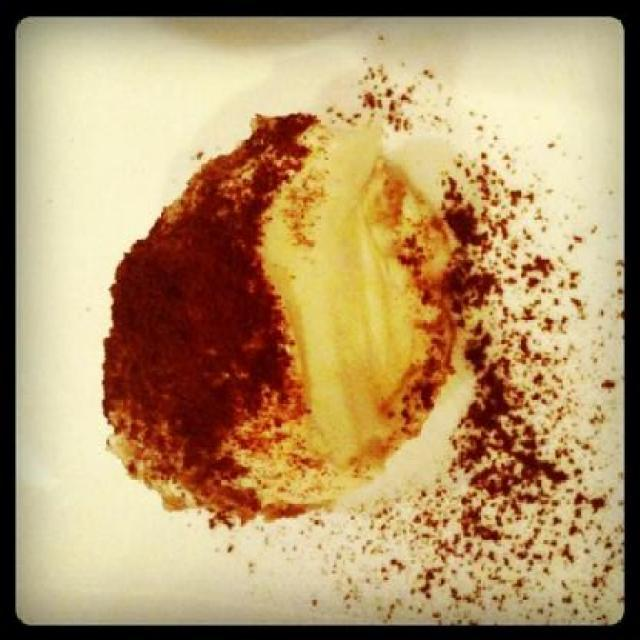Tiramisu: (90, 120, 452, 517)
